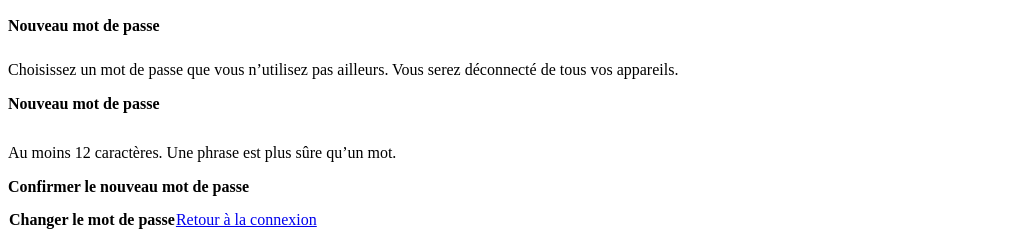
Scenario: ResetPasswordPage › says the sessions are closed and offers the sign-in, without signing anybody in
In the password field labelled "Nouveau mot de passe": (512, 121) [8,113,1016,128], type "une-nouvelle-phrase-de-passe"
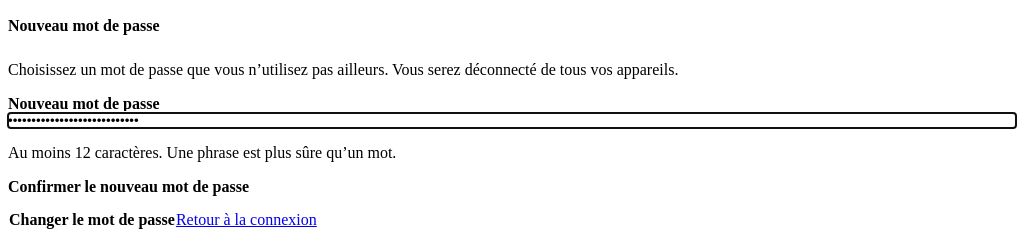
In the password field labelled "Confirmer le nouveau mot de passe": (512, 204) [8,196,1016,211], type "une-nouvelle-phrase-de-passe"
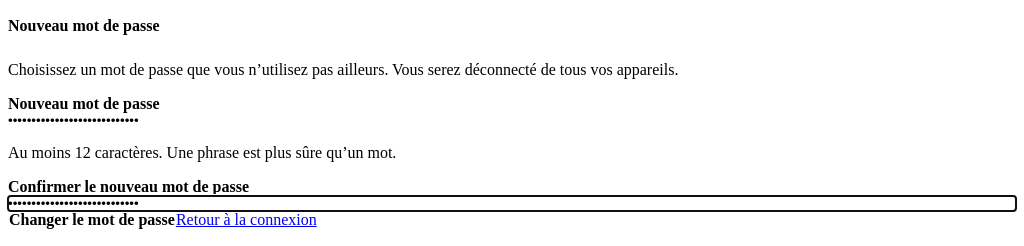
Click the button "Changer le mot de passe": (92, 220) [8,211,176,229]
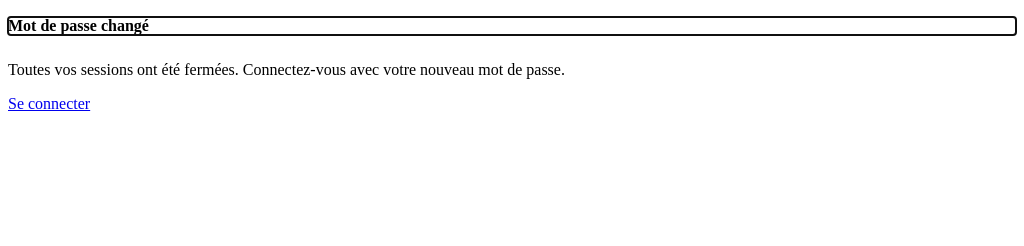
Expected: the text "Toutes vos sessions ont été fermées. Connectez-vous avec votre nouveau mot de passe." is shown, [8,61,565,78]
